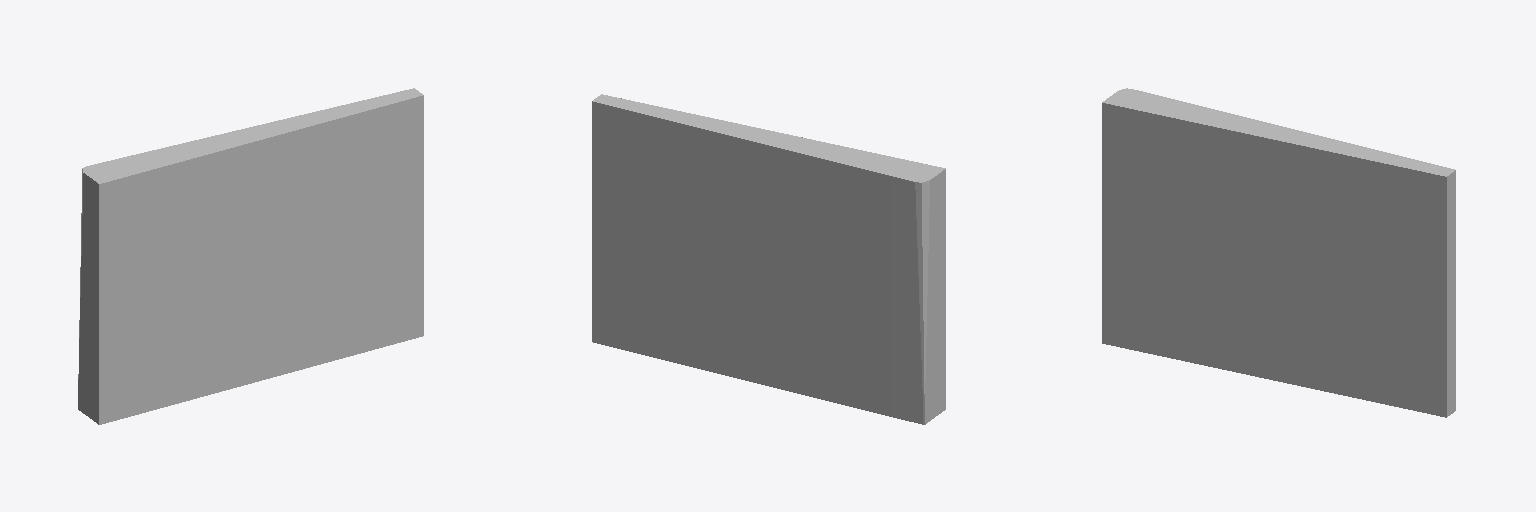
File: Window_Slider_48x36_collision_2.obj
3 views of the same model, side by side, from view 1: azimuth 30°, elevation 25°; view 2: azimuth 150°, elevation 25°; view 3: azimuth 330°, elevation 25° (orthographic).
Bounding box in the file's own units: 0.5048 × 0.3473 × 0.0563.